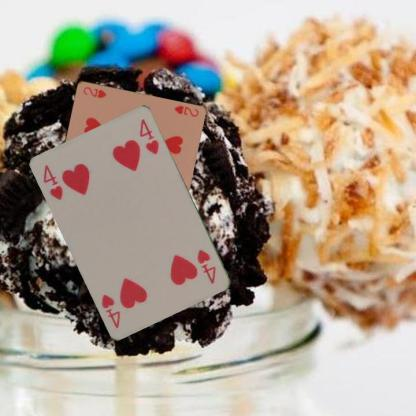2h: (172, 103, 199, 118)
4h: (40, 162, 65, 202), (195, 247, 218, 286)
